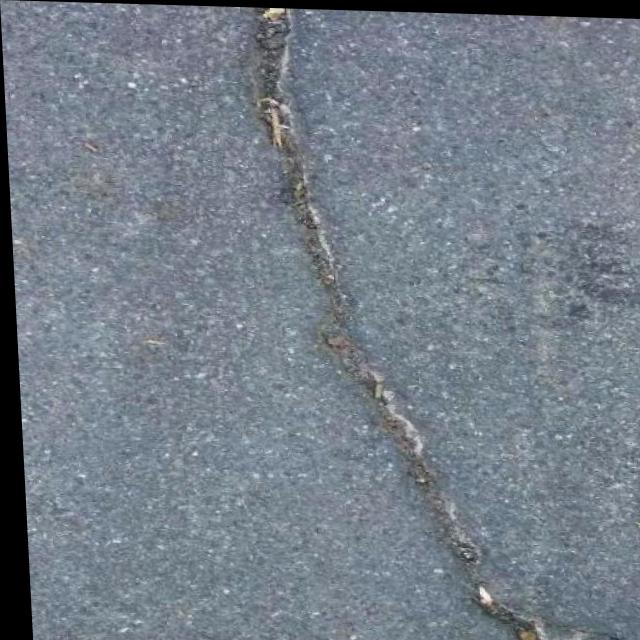Crack: (237, 6, 607, 640)
